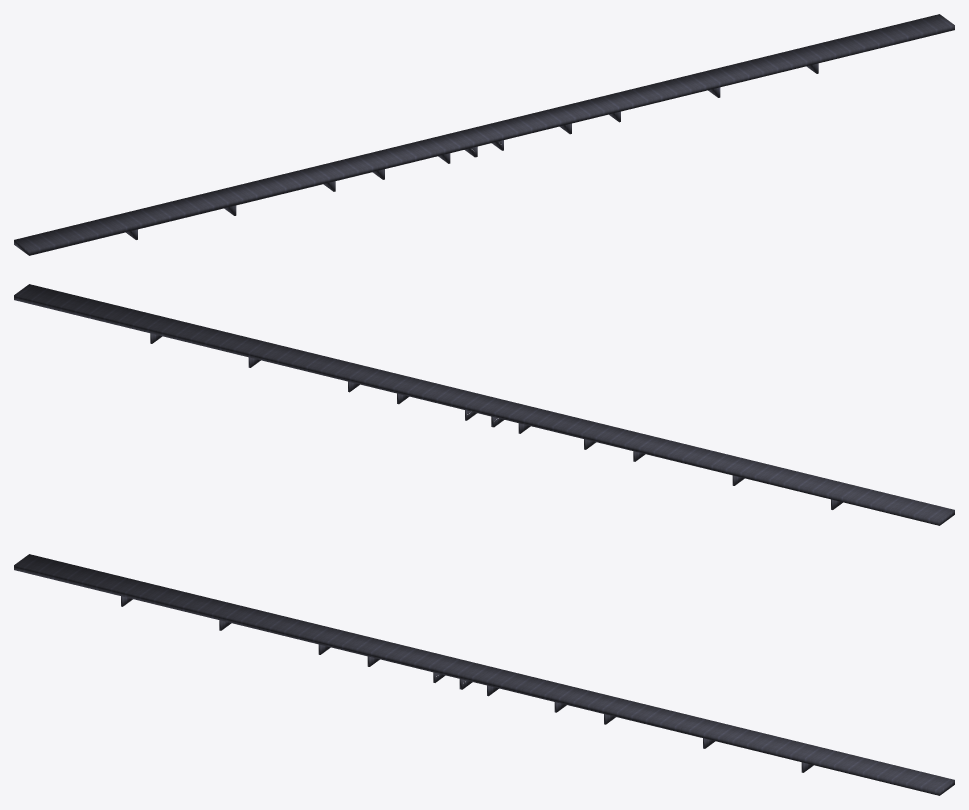
The model's file is long_bridge.glb.
3 views of the same model, one above another, from view 1: azimuth 30°, elevation 25°; view 2: azimuth 150°, elevation 25°; view 3: azimuth 330°, elevation 25° (orthographic).
Parts seen in each view (by area): view 1: bridge_2_long; view 2: bridge_2_long; view 3: bridge_2_long.
Boxes of the visible parts, bbox=[...] form: bridge_2_long: bbox=[14, 14, 954, 255]; bridge_2_long: bbox=[14, 284, 954, 525]; bridge_2_long: bbox=[14, 554, 954, 795].
Bounding box in the file's own units: 1693 × 26.51 × 48.44.
2 materials, 1 textured.
